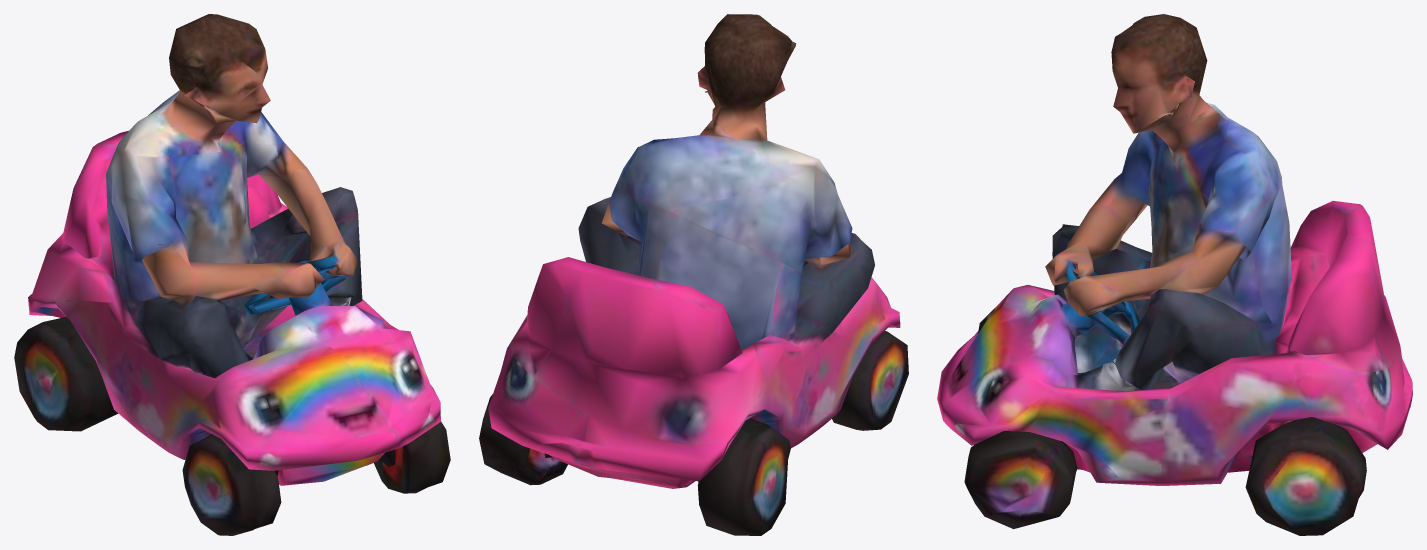
Rendered from vitalik-far.glb.
3 views of the same model, side by side, from view 1: azimuth 30°, elevation 25°; view 2: azimuth 150°, elevation 25°; view 3: azimuth 270°, elevation 25° (orthographic).
Parts seen in each view (by area): view 1: tripo_node_9e42b75e-15b2-4b34-8be9-f17e04553534; view 2: tripo_node_9e42b75e-15b2-4b34-8be9-f17e04553534; view 3: tripo_node_9e42b75e-15b2-4b34-8be9-f17e04553534.
Boxes of the visible parts, left/top/right/bottom form: tripo_node_9e42b75e-15b2-4b34-8be9-f17e04553534: left=14, top=14, right=450, bottom=535; tripo_node_9e42b75e-15b2-4b34-8be9-f17e04553534: left=479, top=14, right=908, bottom=535; tripo_node_9e42b75e-15b2-4b34-8be9-f17e04553534: left=937, top=14, right=1412, bottom=535.
Bounding box in the file's own units: 0.6172 × 0.9794 × 0.9474.
1 material, 1 textured.
